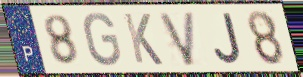8: (246, 9, 285, 67), (41, 13, 80, 66)
G: (82, 11, 124, 68)
J: (213, 11, 245, 66)
K: (121, 11, 166, 67)
V: (156, 9, 198, 68)
